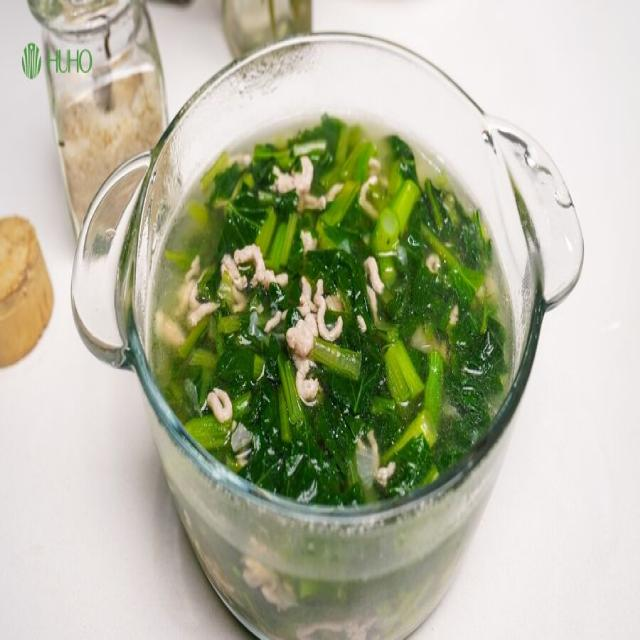canh cai: (443, 480, 459, 489)
